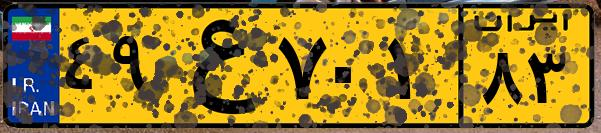0: (330, 28, 385, 110)
1: (385, 28, 445, 110)
3: (525, 38, 570, 115)
4: (57, 26, 110, 100)
7: (270, 28, 330, 110)
8: (475, 38, 525, 113)
9: (110, 28, 158, 98)
ع: (158, 12, 270, 120)
